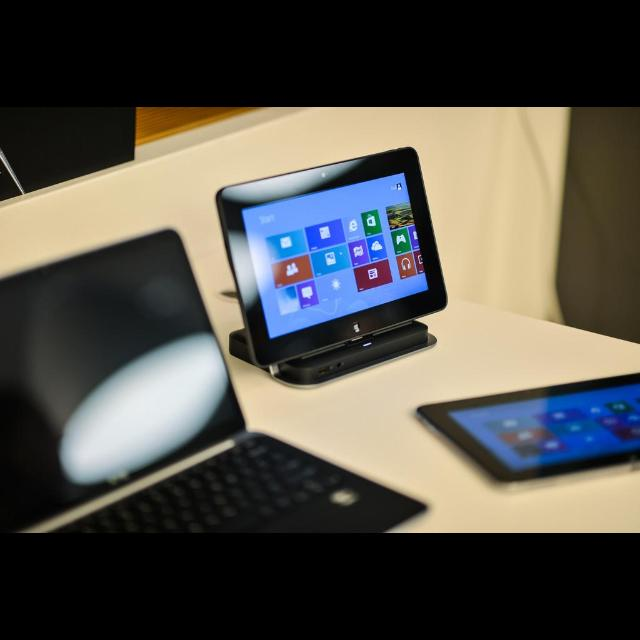Laptop: (1, 231, 419, 534)
